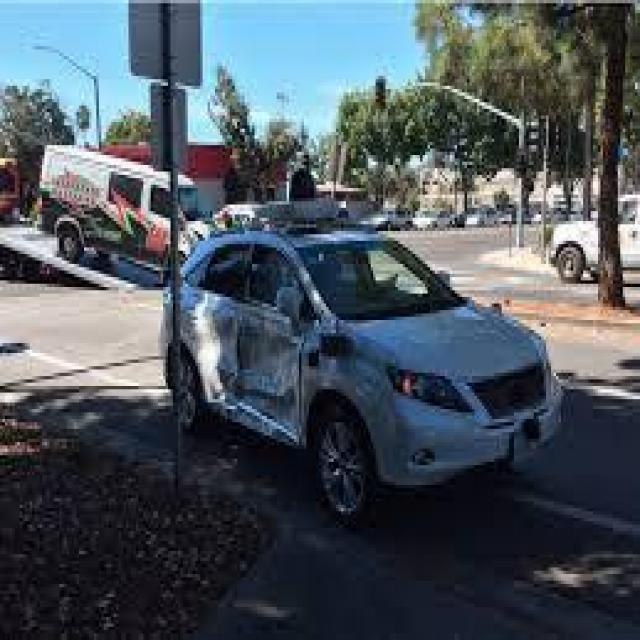damaged: (182, 251, 316, 438)
